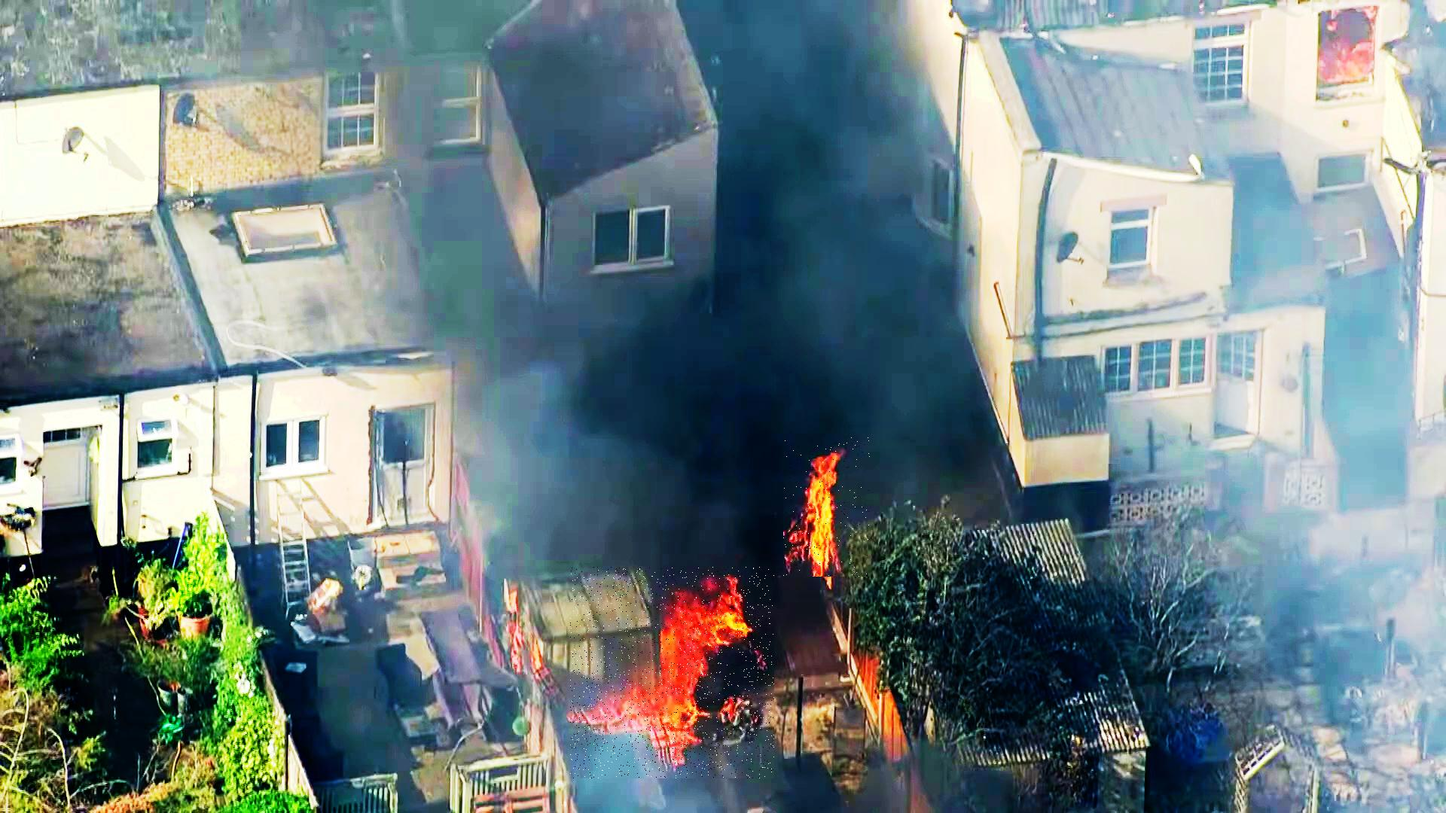fire: (570, 567, 774, 778), (784, 437, 870, 577)
